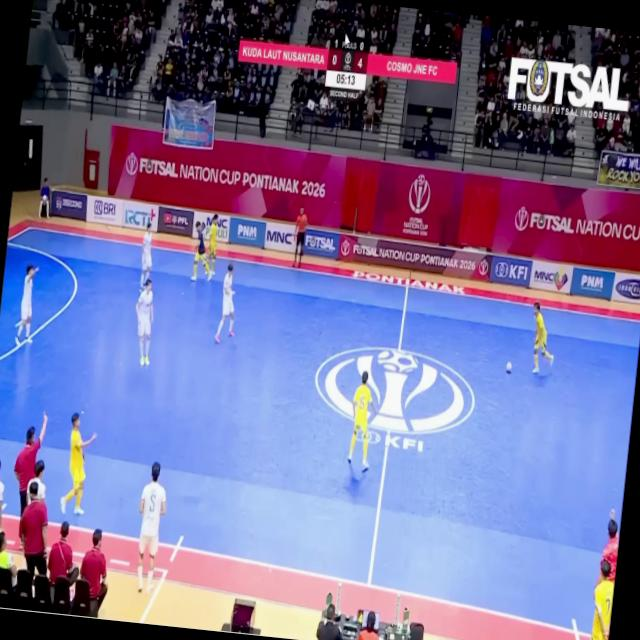official: (14, 414, 48, 514), (20, 482, 48, 576), (80, 529, 107, 617), (317, 604, 342, 639), (358, 612, 378, 639)
players: (137, 462, 166, 593), (61, 413, 96, 515), (348, 371, 375, 471), (16, 265, 38, 345), (215, 264, 234, 343), (136, 278, 153, 366), (532, 303, 553, 373), (191, 222, 213, 281), (140, 222, 152, 291), (0, 481, 4, 531)
referee: (294, 208, 308, 266)
